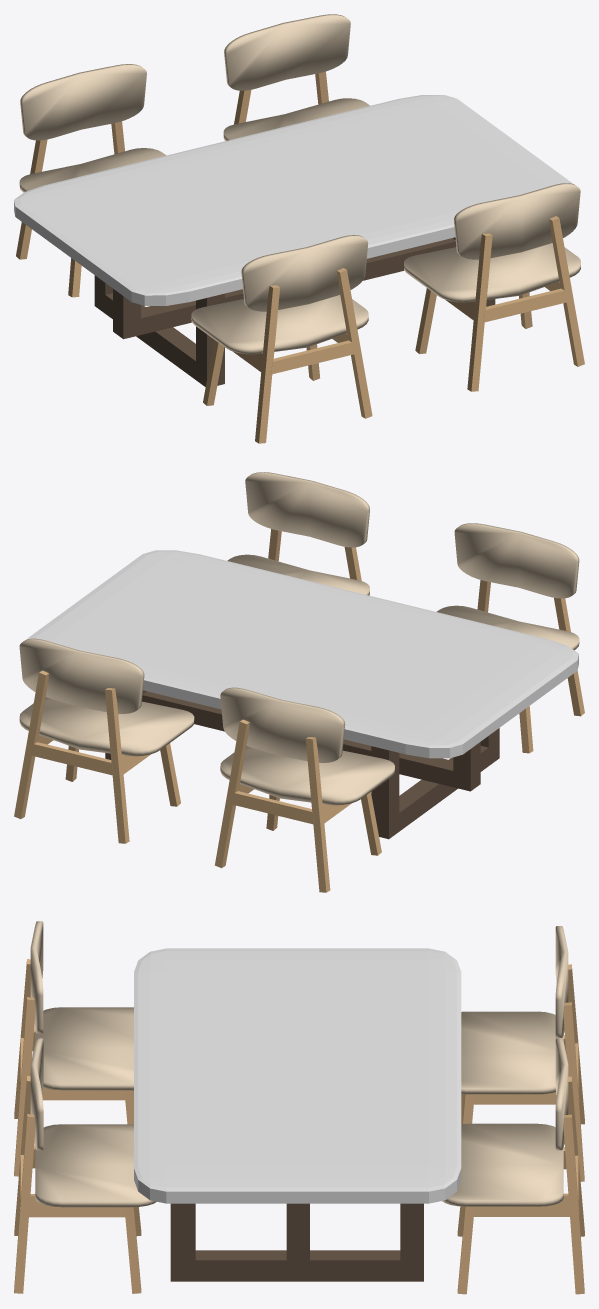
The model's file is cafe-table & chair 3.fbx.
3 views of the same model, one above another, from view 1: azimuth 30°, elevation 25°; view 2: azimuth 150°, elevation 25°; view 3: azimuth 270°, elevation 25° (orthographic). The views are drawn at different scales.
Parts seen in each view (by area): view 1: Cube.005; view 2: Cube.005; view 3: Cube.005.
Part boxes in pixels (x1,y1,x2,y2): Cube.005: (14,14,584,443); Cube.005: (14,472,584,892); Cube.005: (14,921,584,1294).
Size of the model in its own units: 443 by 169 by 439.
